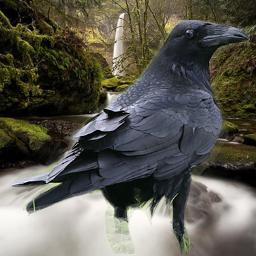Crow: (9, 20, 250, 254)
